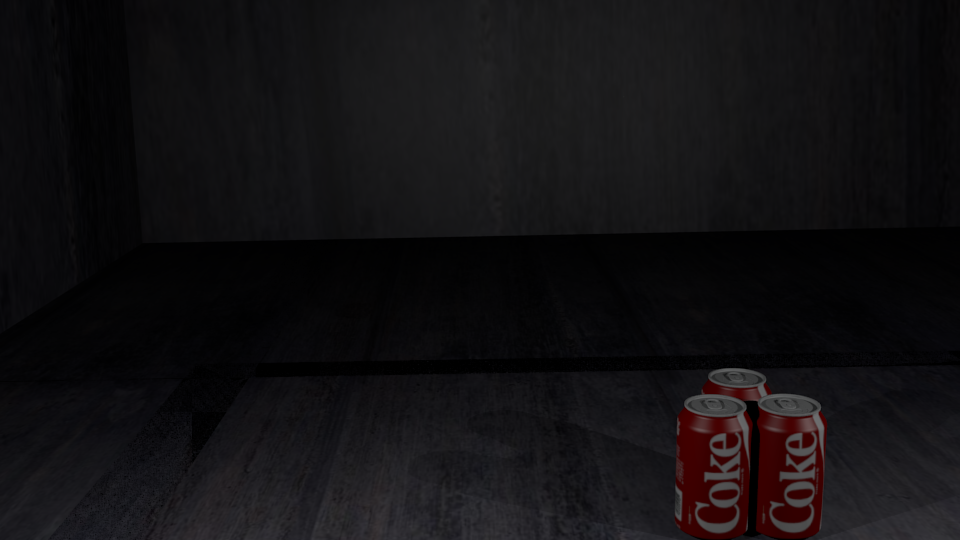cola_can: (750, 394, 826, 534), (676, 395, 751, 535), (703, 369, 771, 500)
